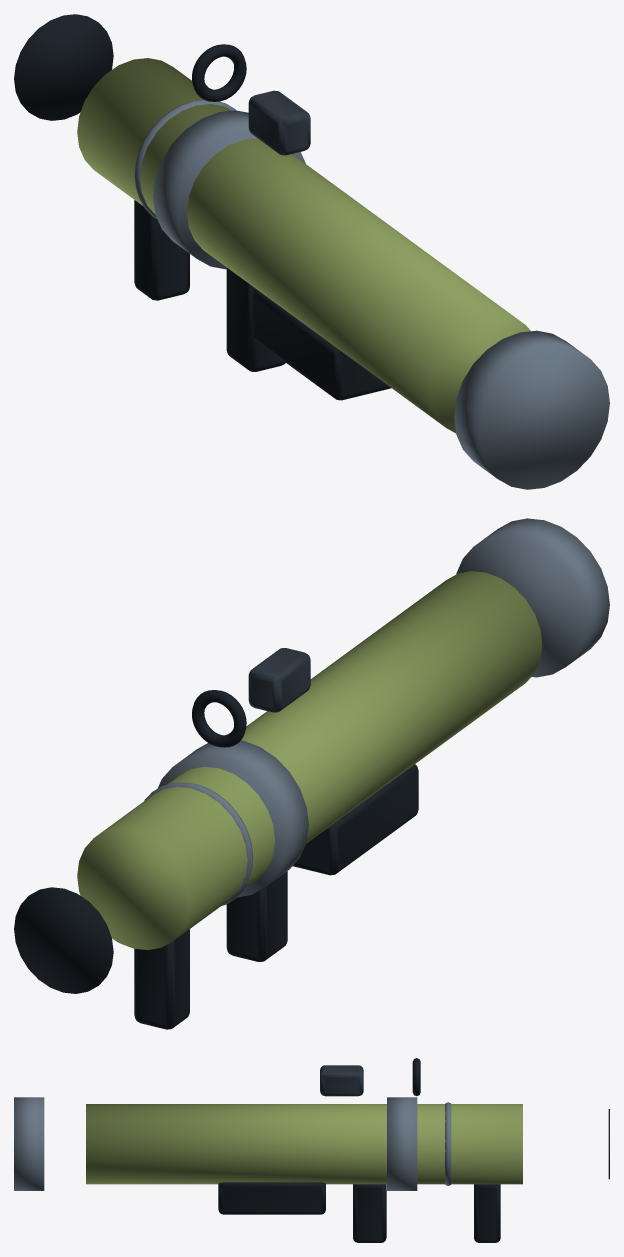
The model's file is rocket.glb.
3 views of the same model, one above another, from view 1: azimuth 30°, elevation 25°; view 2: azimuth 150°, elevation 25°; view 3: azimuth 270°, elevation 25° (orthographic). The views are drawn at different scales.
Visible parts, largest first — view 1: shoulder tube, tube collar, front dark opening, sight pedestal; view 2: shoulder tube, front dark opening, tube collar, sight pedestal; view 3: shoulder tube, front dark opening, tube collar, sight pedestal.
Boxes of the visible parts, bbox=[...] form: shoulder tube: bbox=[77, 58, 530, 433]; tube collar: bbox=[134, 99, 609, 489]; front dark opening: bbox=[14, 14, 391, 400]; sight pedestal: bbox=[248, 90, 310, 155]; shoulder tube: bbox=[77, 571, 542, 949]; front dark opening: bbox=[14, 690, 418, 1029]; tube collar: bbox=[144, 518, 609, 905]; sight pedestal: bbox=[248, 648, 310, 712]; shoulder tube: bbox=[86, 1104, 522, 1184]; front dark opening: bbox=[218, 1058, 609, 1242]; tube collar: bbox=[14, 1097, 451, 1190]; sight pedestal: bbox=[320, 1065, 363, 1096].
Size of the model in its own units: 0.2016 by 0.4226 by 1.28.
